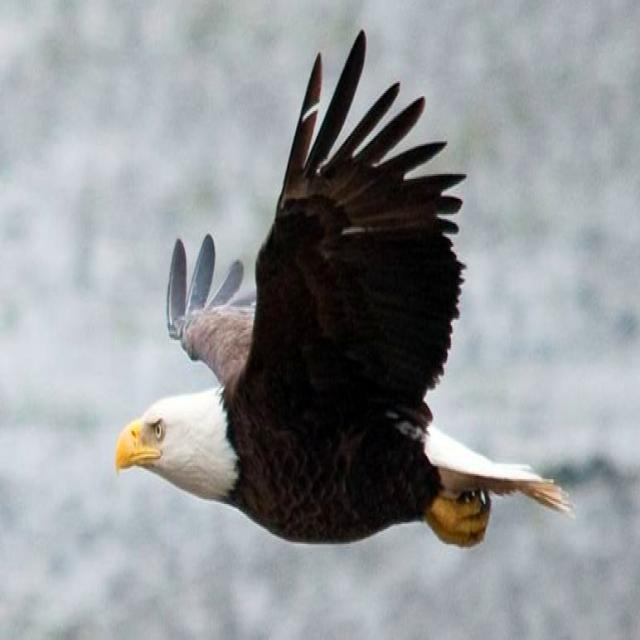eagle: (117, 30, 567, 545)
